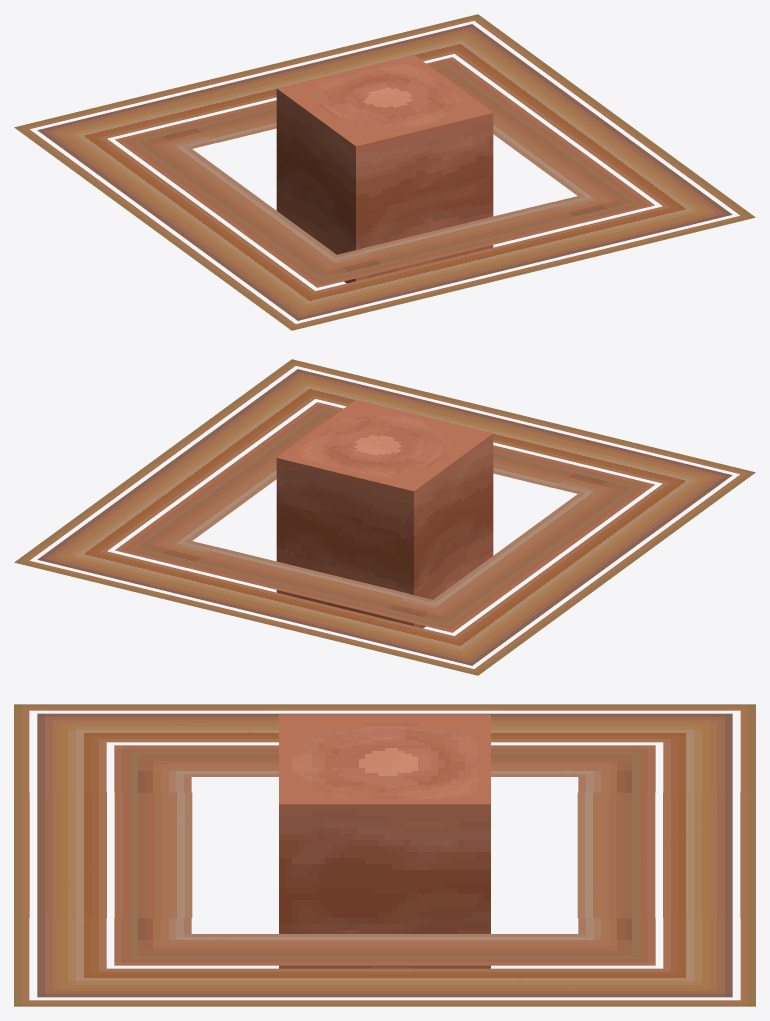
File: jbp.gltf
3 views of the same model, one above another, from view 1: azimuth 30°, elevation 25°; view 2: azimuth 150°, elevation 25°; view 3: azimuth 270°, elevation 25° (orthographic). The views are drawn at different scales.
Visible parts, largest first — view 1: cube (×5); view 2: cube (×5); view 3: cube (×5).
Part boxes in pixels (x1=…): cube (×5): x1=14, y1=14, x2=755, y2=330; cube (×5): x1=14, y1=359, x2=755, y2=675; cube (×5): x1=14, y1=704, x2=755, y2=1006.
Bounding box in the file's own units: 13.5 × 4 × 14.
1 material, 1 textured.
